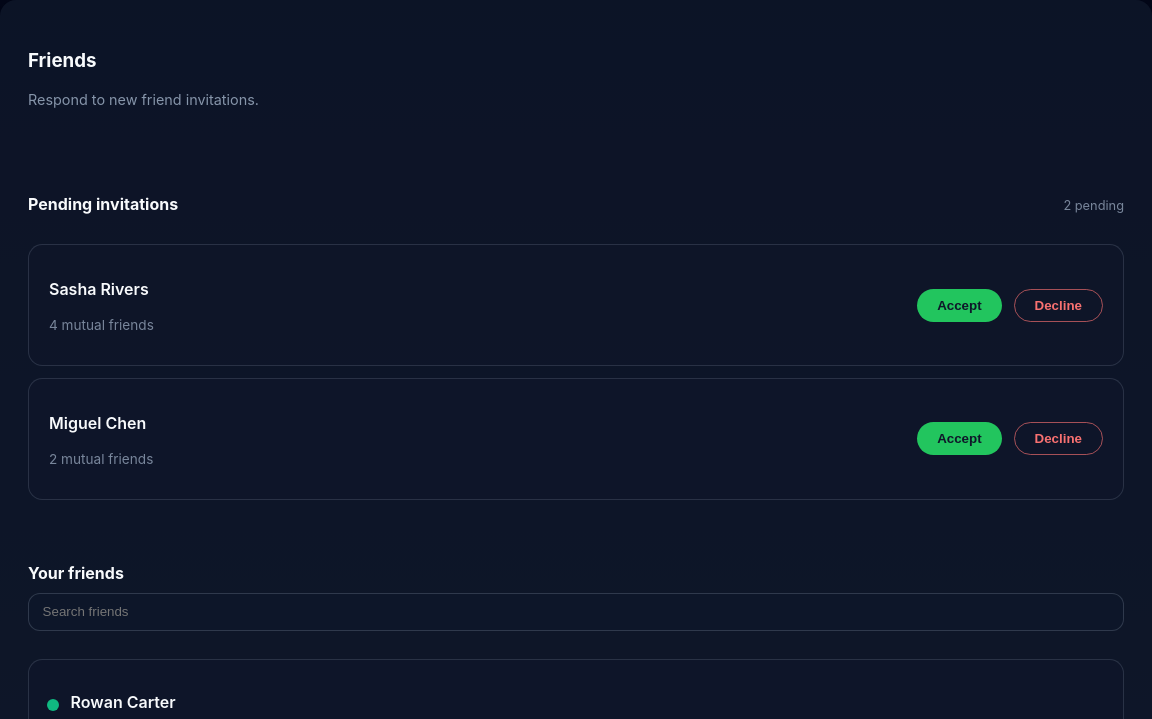
it: FriendListManagerView › restores the invite and reports the error when the update fails
The image size is (1152, 719).
Click the button with aria-label "accept sasha rivers" at (959, 305), box x1=917 y1=289 x2=1002 y2=322
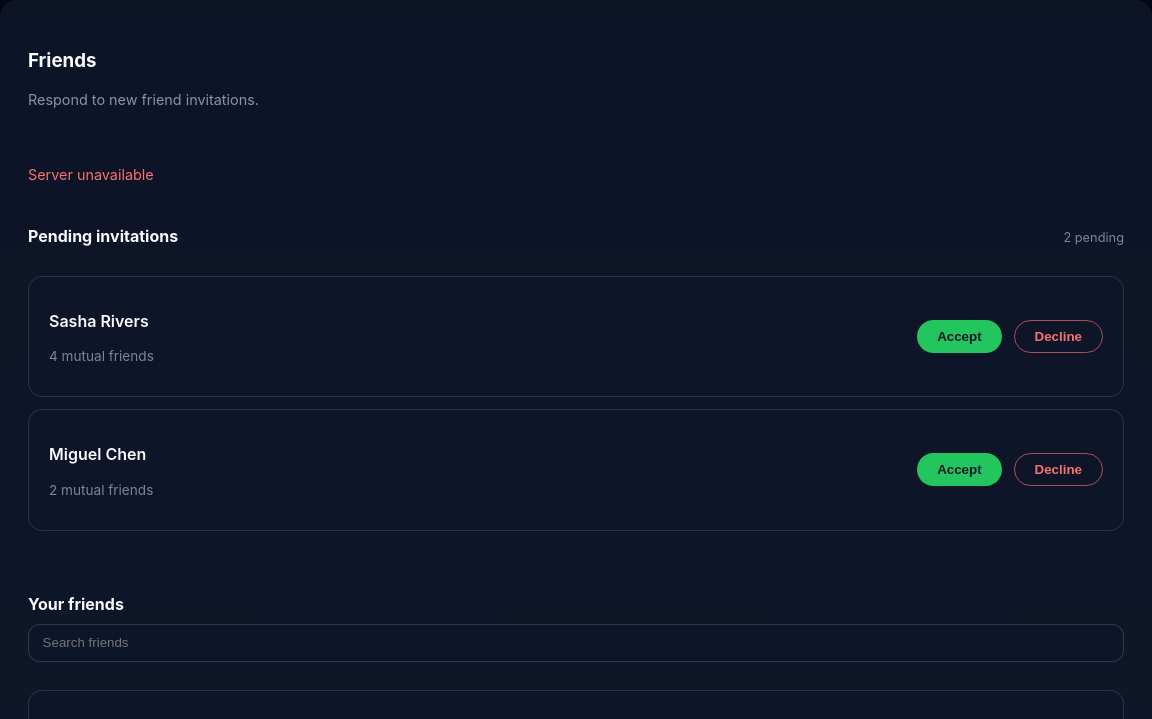
Expected: the button with aria-label "accept sasha rivers" is enabled, x1=917 y1=320 x2=1002 y2=353
Result: the message reads "Server unavailable" at x1=28 y1=166 x2=154 y2=183
